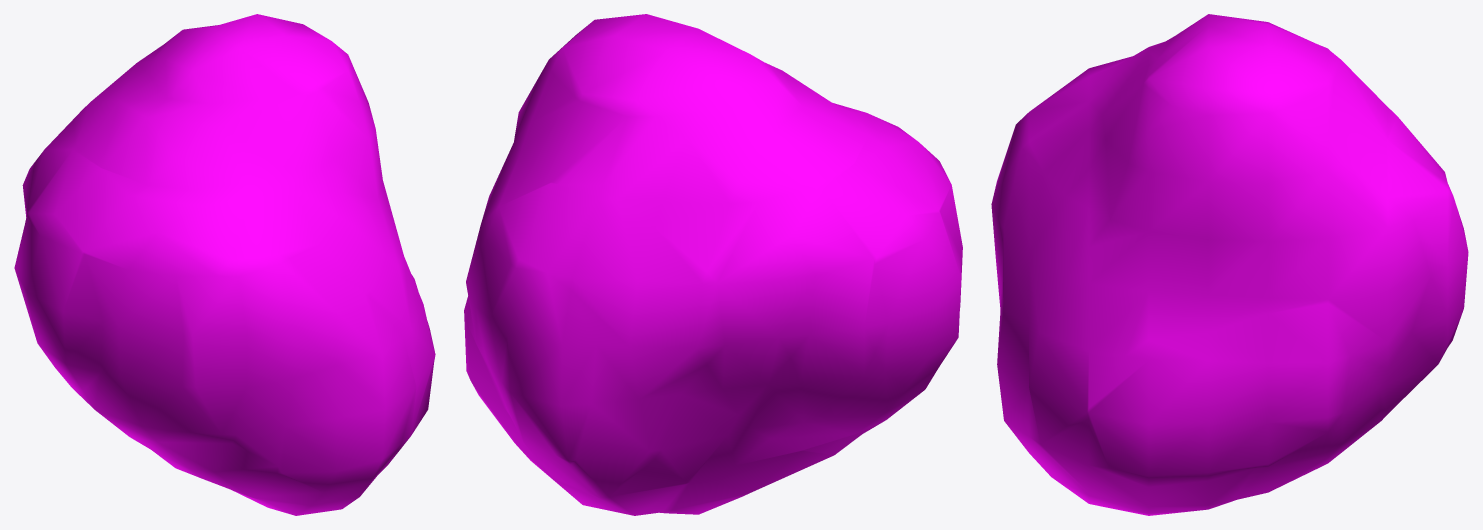
The model's file is Vesicle_52AAligned2.fbx.
3 renders of one model, left to right at view 1: azimuth 30°, elevation 25°; view 2: azimuth 150°, elevation 25°; view 3: azimuth 270°, elevation 25°, orthographic. The views are drawn at different scales.
Visible parts, largest first — view 1: vesicle_MeshVes52Mesh; view 2: vesicle_MeshVes52Mesh; view 3: vesicle_MeshVes52Mesh.
Part boxes in pixels (bbox=[...]): vesicle_MeshVes52Mesh: bbox=[14, 14, 435, 515]; vesicle_MeshVes52Mesh: bbox=[464, 14, 962, 515]; vesicle_MeshVes52Mesh: bbox=[991, 14, 1468, 515].
Size of the model in its own units: 44.53 by 50.55 by 46.53.
